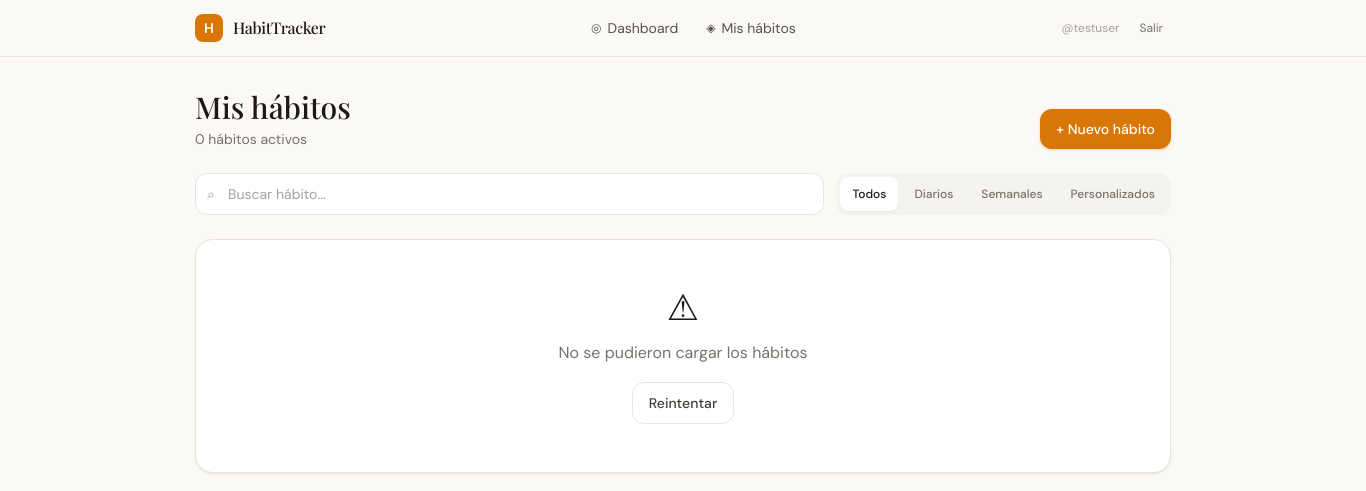
Scenario: HabitsPage — error › el botón "Reintentar" recarga los datos
Expected: the text "No se pudieron cargar los hábitos" is shown, [558, 342, 807, 363]
Click the button "Reintentar". click: (683, 403)
box: [632, 382, 734, 424]
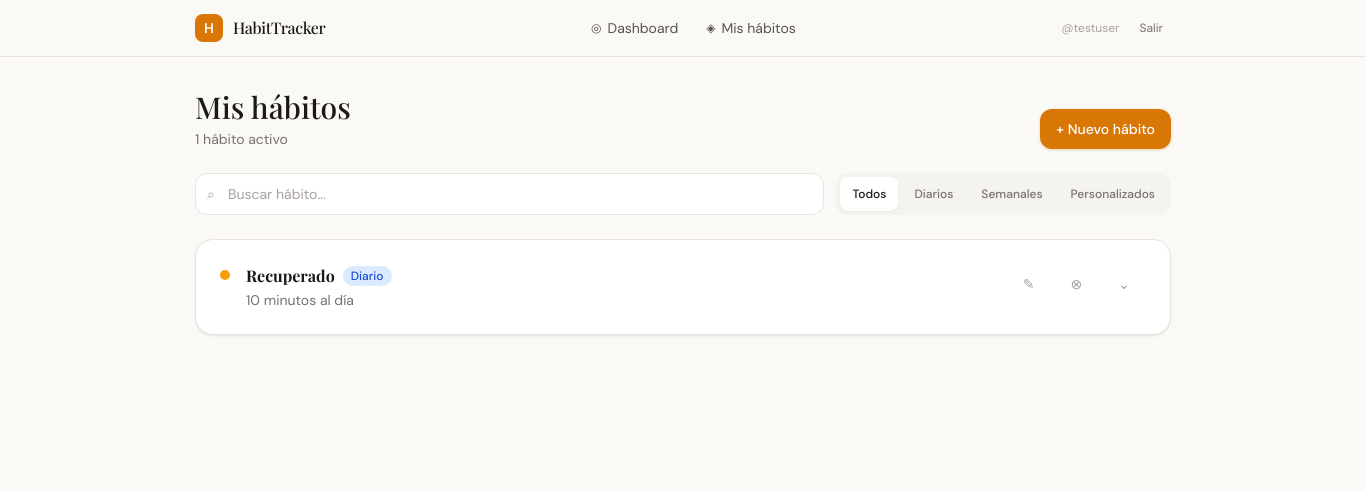
Expected: the heading "Recuperado" is shown, [246, 264, 335, 288]
